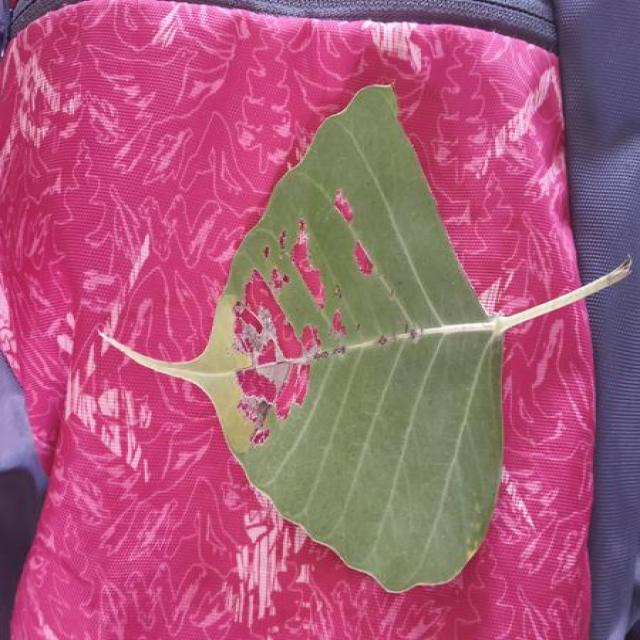arali: (103, 85, 630, 592)
defected arali: (168, 86, 628, 591)
